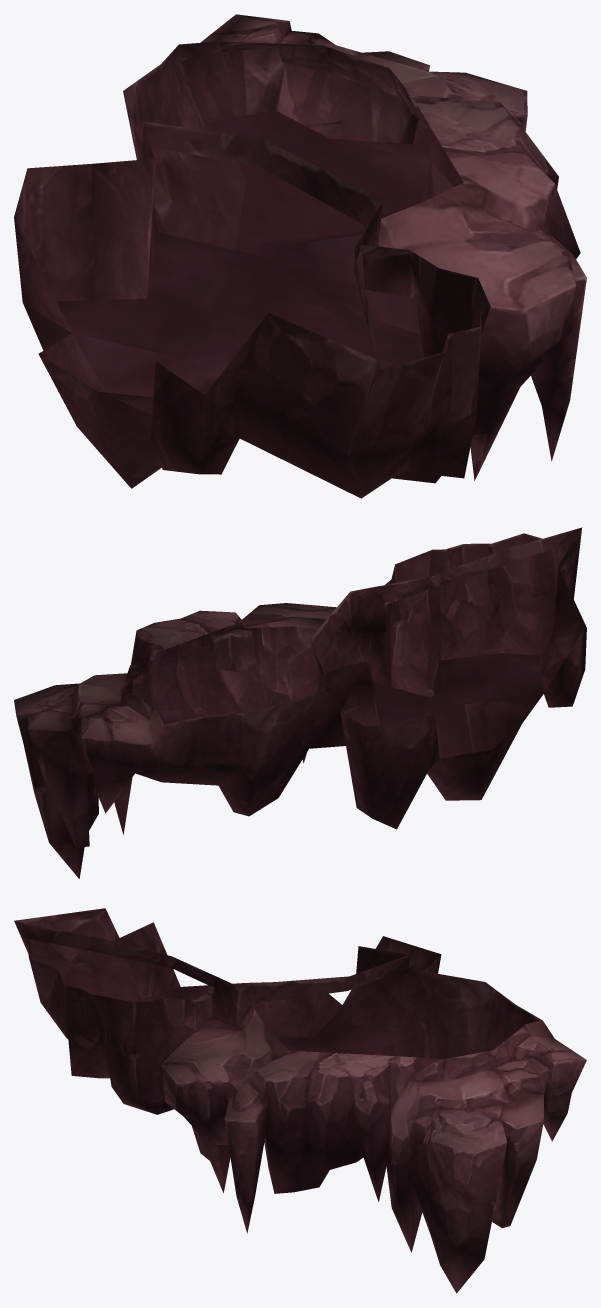
Rendered from Area_04_26.fbx.
3 views of the same model, one above another, from view 1: azimuth 30°, elevation 25°; view 2: azimuth 150°, elevation 25°; view 3: azimuth 270°, elevation 25° (orthographic). The views are drawn at different scales.
Visible parts, largest first — view 1: Area_04_26; view 2: Area_04_26; view 3: Area_04_26.
Part boxes in pixels (left/top/right/bottom): Area_04_26: left=14, top=14, right=586, bottom=498; Area_04_26: left=14, top=527, right=586, bottom=878; Area_04_26: left=14, top=908, right=586, bottom=1293.
Size of the model in its own units: 2976 by 1784 by 3779.
